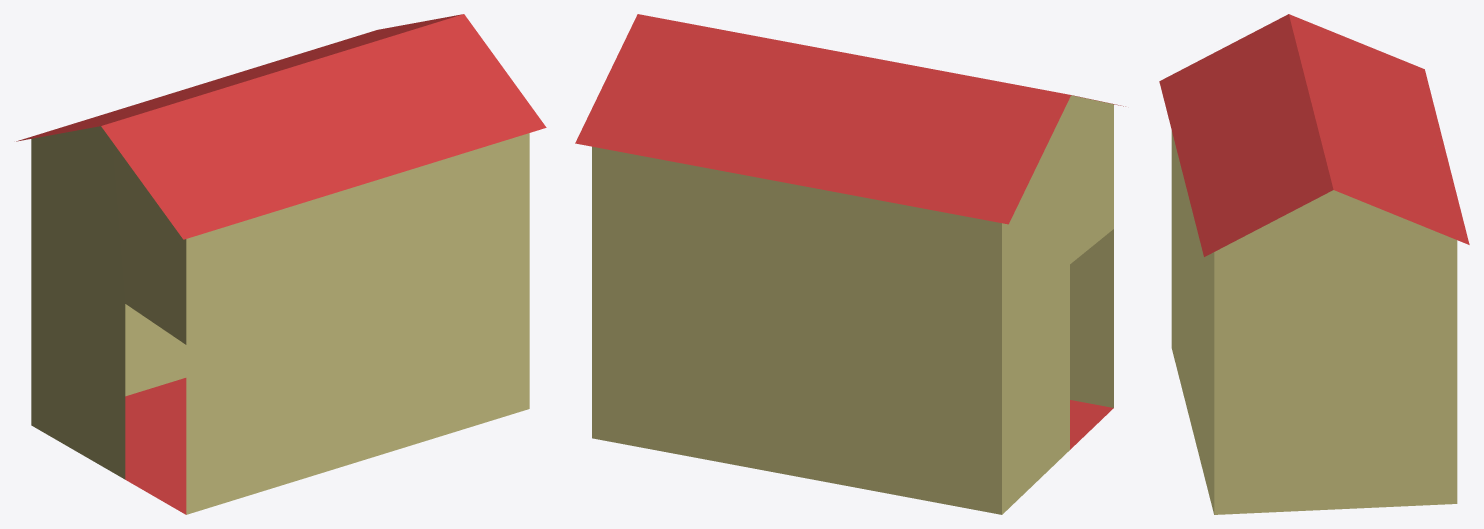
3 views of the same model, side by side, from view 1: azimuth 30°, elevation 25°; view 2: azimuth 150°, elevation 25°; view 3: azimuth 270°, elevation 25° (orthographic). The views are drawn at different scales.
Bounding box in the file's own units: 19.6 × 13.67 × 15.76.
